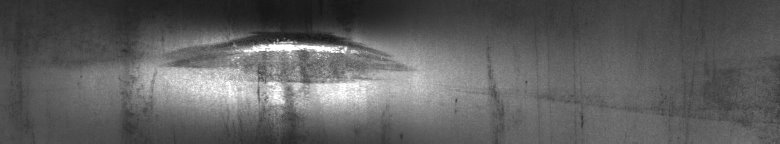ke: (168, 28, 375, 120)
